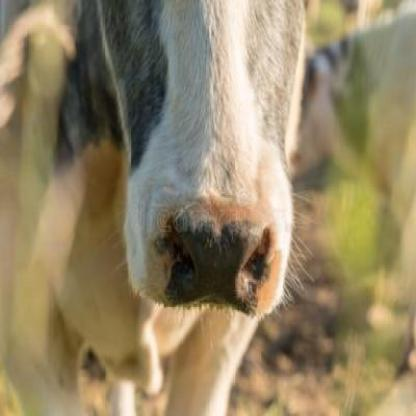mouth: (122, 168, 289, 320)
upper: (204, 241, 226, 263)
